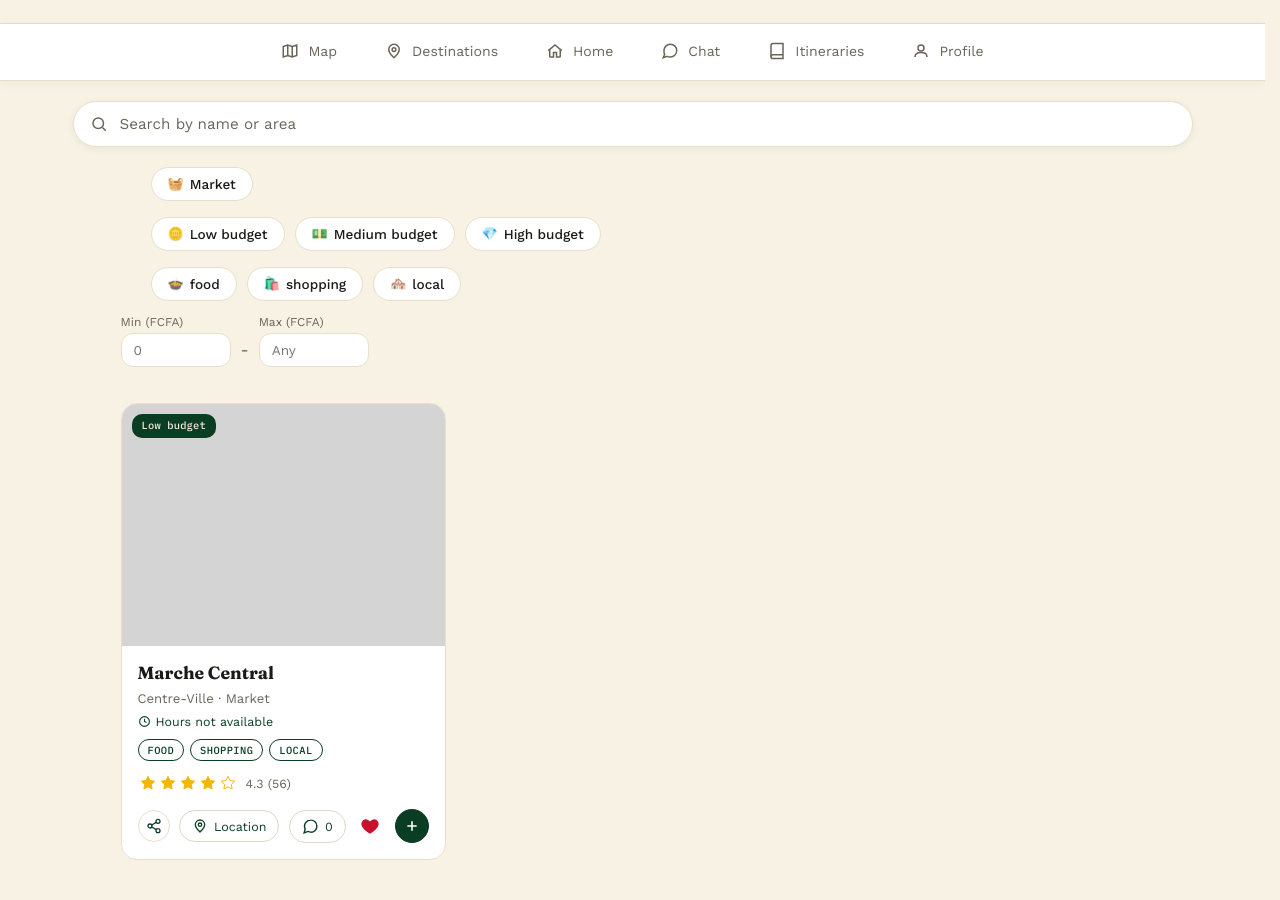
Test: Destinations › removes an existing favorite when logged in
(page scrolled)
Click the button named "remove from favorites": (370, 826) [355,812,385,842]
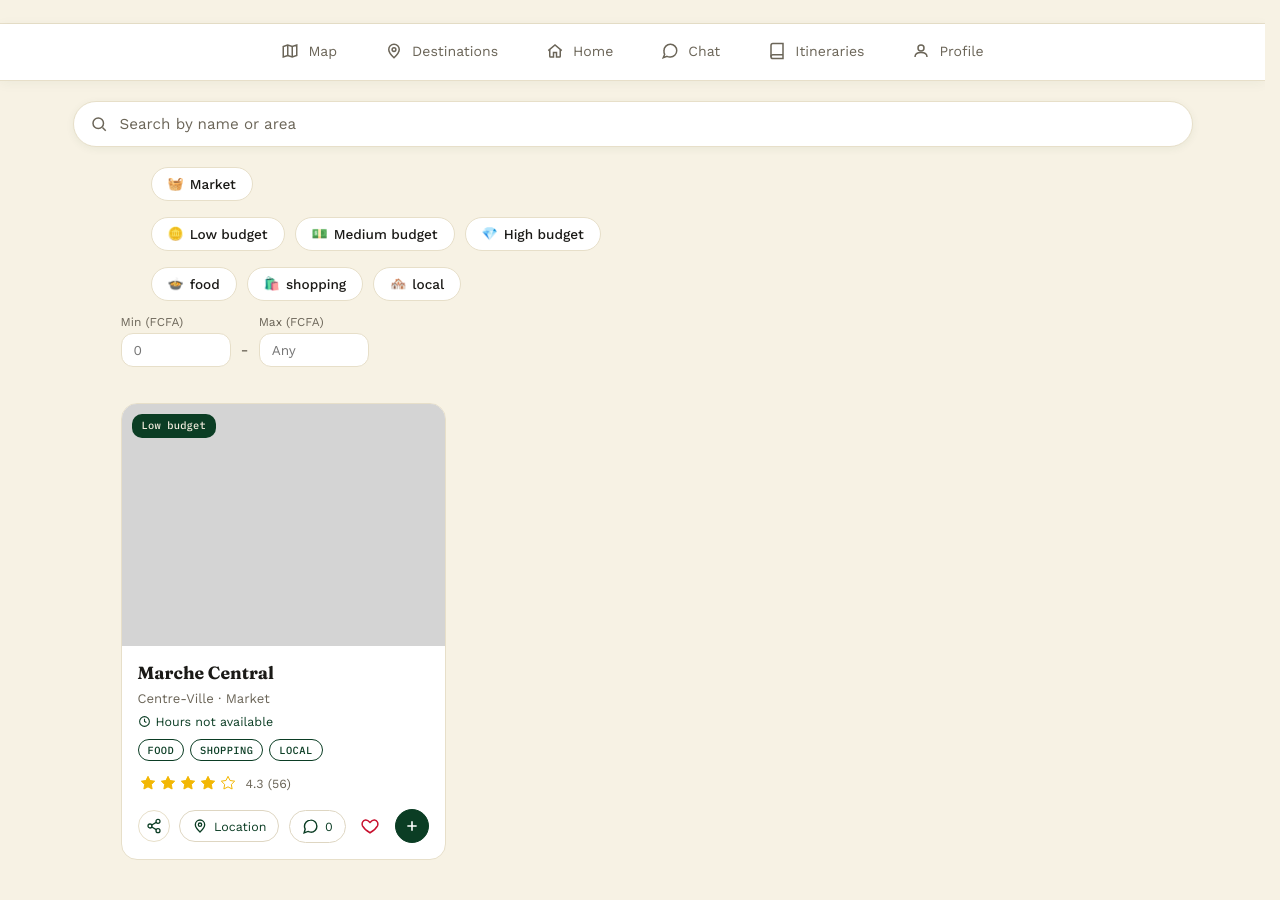
Now the button named "add to favorites" is shown, box [355,812,385,842]
